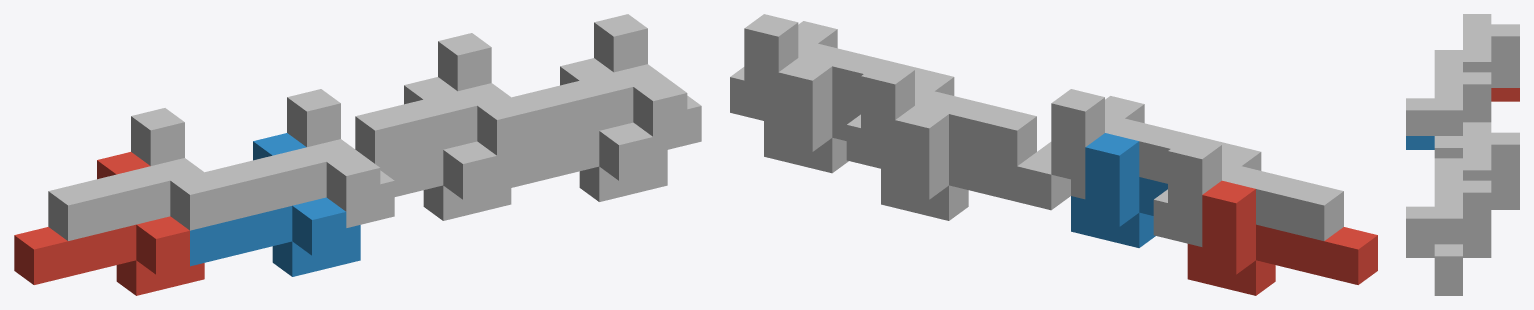
The model's file is tiling.obj.
The picture shows the model from 3 angles, left to right: view 1: azimuth 30°, elevation 25°; view 2: azimuth 150°, elevation 25°; view 3: azimuth 270°, elevation 25°; orthographic projection. The views are drawn at different scales.
Parts seen in each view (by area): view 1: copy_1_domain_4, copy_1_domain_8, copy_1_domain_3, copy_1_domain_7, copy_1_domain_1, copy_1_domain_2, copy_1_domain_6, copy_1_domain_5; view 2: copy_1_domain_1, copy_1_domain_5, copy_1_domain_7, copy_1_domain_3, copy_1_domain_8, copy_1_domain_4, copy_1_domain_6, copy_1_domain_2; view 3: copy_1_domain_8, copy_1_domain_4, copy_1_domain_7, copy_1_domain_3, copy_1_domain_6, copy_1_domain_1, copy_1_domain_2, copy_1_domain_5.
Boxes of the visible parts, x1,y1,x2,y2 form: copy_1_domain_4: (205, 89, 394, 227); copy_1_domain_8: (512, 14, 701, 153); copy_1_domain_3: (48, 108, 224, 240); copy_1_domain_7: (355, 33, 530, 165); copy_1_domain_1: (14, 152, 204, 295); copy_1_domain_2: (190, 133, 360, 276); copy_1_domain_6: (497, 58, 667, 201); copy_1_domain_5: (378, 77, 511, 220); copy_1_domain_1: (1187, 180, 1377, 295); copy_1_domain_5: (881, 106, 1070, 220); copy_1_domain_7: (846, 62, 1036, 171); copy_1_domain_3: (1153, 136, 1343, 246); copy_1_domain_8: (730, 14, 919, 124); copy_1_domain_4: (1037, 89, 1226, 199); copy_1_domain_6: (764, 58, 860, 173); copy_1_domain_2: (1071, 133, 1167, 247); copy_1_domain_8: (1406, 170, 1491, 282); copy_1_domain_4: (1406, 62, 1491, 158); copy_1_domain_7: (1434, 122, 1519, 196); copy_1_domain_3: (1434, 14, 1519, 87); copy_1_domain_6: (1406, 244, 1491, 295); copy_1_domain_1: (1491, 88, 1519, 101); copy_1_domain_2: (1406, 136, 1434, 149); copy_1_domain_5: (1491, 196, 1519, 209).
Size of the model in its own units: 19 by 4 by 4.
